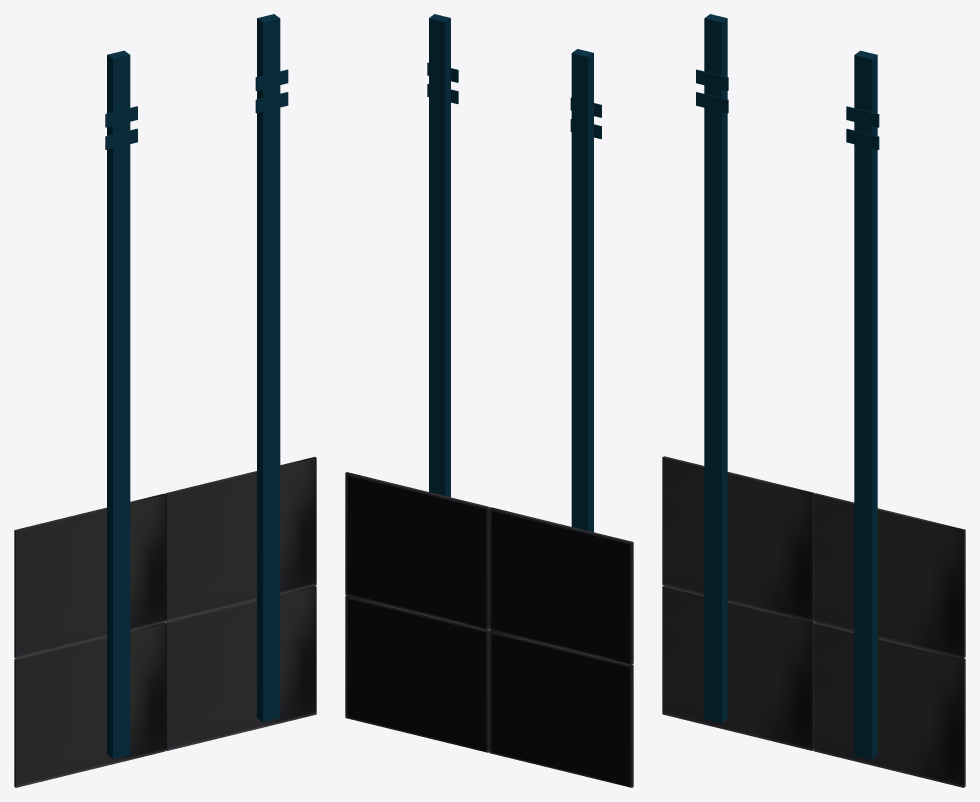
Rendered from CK-xianshiping0002-CJBZ.FBX.
3 renders of one model, left to right at view 1: azimuth 30°, elevation 25°; view 2: azimuth 150°, elevation 25°; view 3: azimuth 330°, elevation 25°, orthographic. The views are drawn at different scales.
Parts seen in each view (by area): view 1: CK-xianshiping0002-CJBZ; view 2: CK-xianshiping0002-CJBZ; view 3: CK-xianshiping0002-CJBZ.
Part boxes in pixels (x1,y1,x2,y2): CK-xianshiping0002-CJBZ: [14, 14, 316, 787]; CK-xianshiping0002-CJBZ: [345, 14, 633, 787]; CK-xianshiping0002-CJBZ: [662, 14, 965, 787].
Bounding box in the file's own units: 1.04 × 2.41 × 0.1794.
2 materials, 1 textured.
